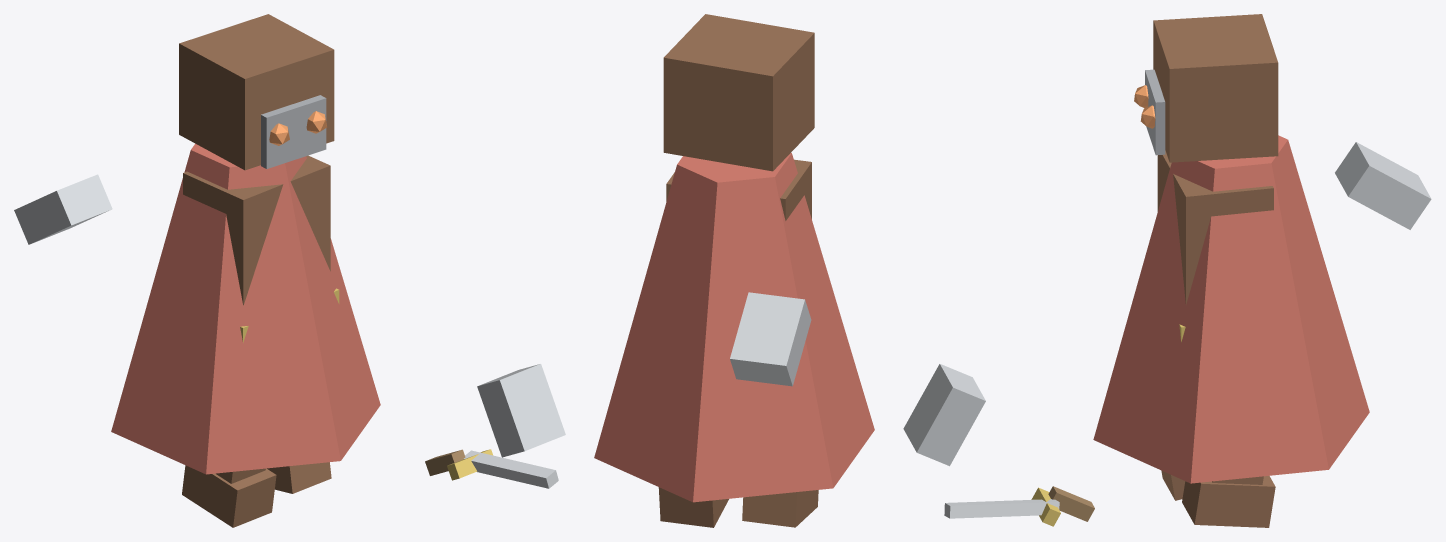
Rendered from npcpose_raider_attack_04.glb.
The picture shows the model from 3 angles, left to right: view 1: azimuth 30°, elevation 25°; view 2: azimuth 150°, elevation 25°; view 3: azimuth 270°, elevation 25°; orthographic projection. The views are drawn at different scales.
Parts seen in each view (by area): view 1: npcpose; view 2: npcpose; view 3: npcpose.
Boxes of the visible parts, bbox=[...] form: npcpose: bbox=[14, 14, 565, 527]; npcpose: bbox=[594, 14, 874, 527]; npcpose: bbox=[903, 14, 1431, 527].
Size of the model in its own units: 1.16 by 1.58 by 1.64.
